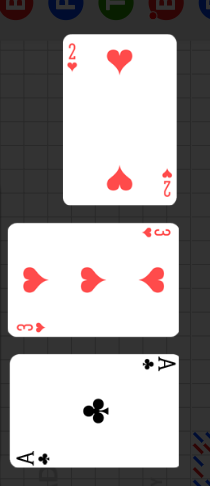2H: (66, 42, 80, 74), (160, 166, 173, 198)
AC: (15, 449, 53, 466)
